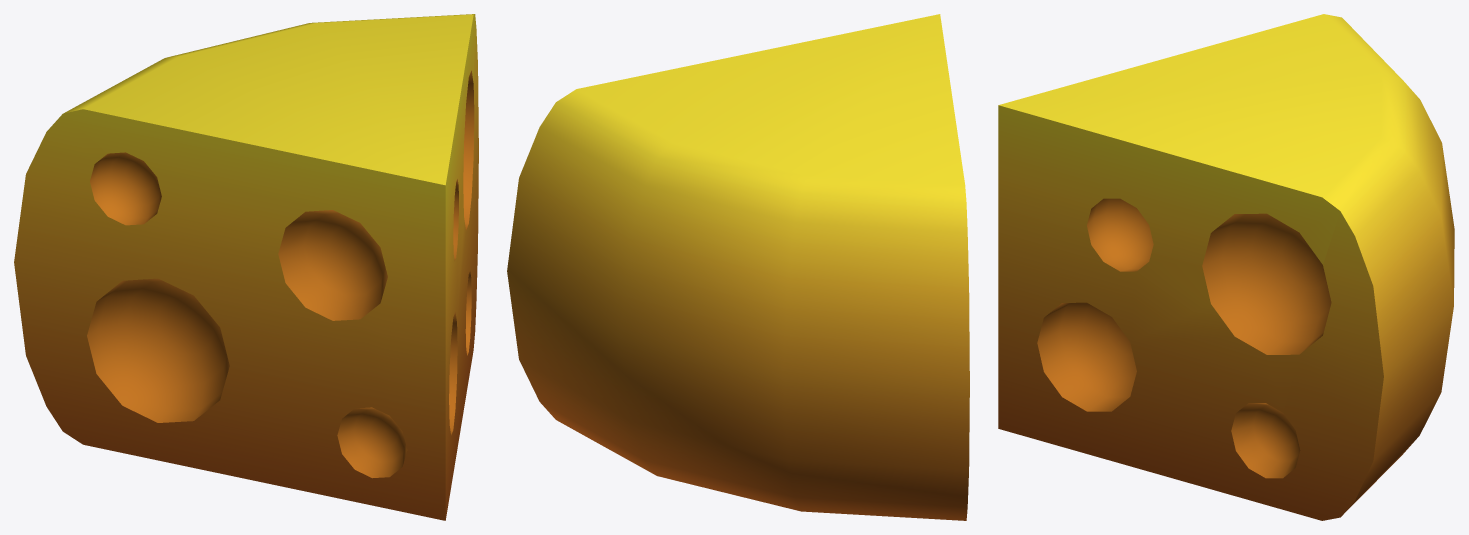
The model's file is Hole_Cheese_Slice_01.glb.
3 renders of one model, left to right at view 1: azimuth 30°, elevation 25°; view 2: azimuth 150°, elevation 25°; view 3: azimuth 270°, elevation 25°, orthographic. The views are drawn at different scales.
Visible parts, largest first — view 1: Hole_Cheese_Slice_01; view 2: Hole_Cheese_Slice_01; view 3: Hole_Cheese_Slice_01.
Boxes of the visible parts, box(x1,y1,x2,y2) form: Hole_Cheese_Slice_01: box(14, 14, 478, 520); Hole_Cheese_Slice_01: box(507, 14, 969, 520); Hole_Cheese_Slice_01: box(998, 14, 1454, 520).
Size of the model in its own units: 0.3851 by 0.2662 by 0.3402.
Materials: 1 (1 with a texture image).
